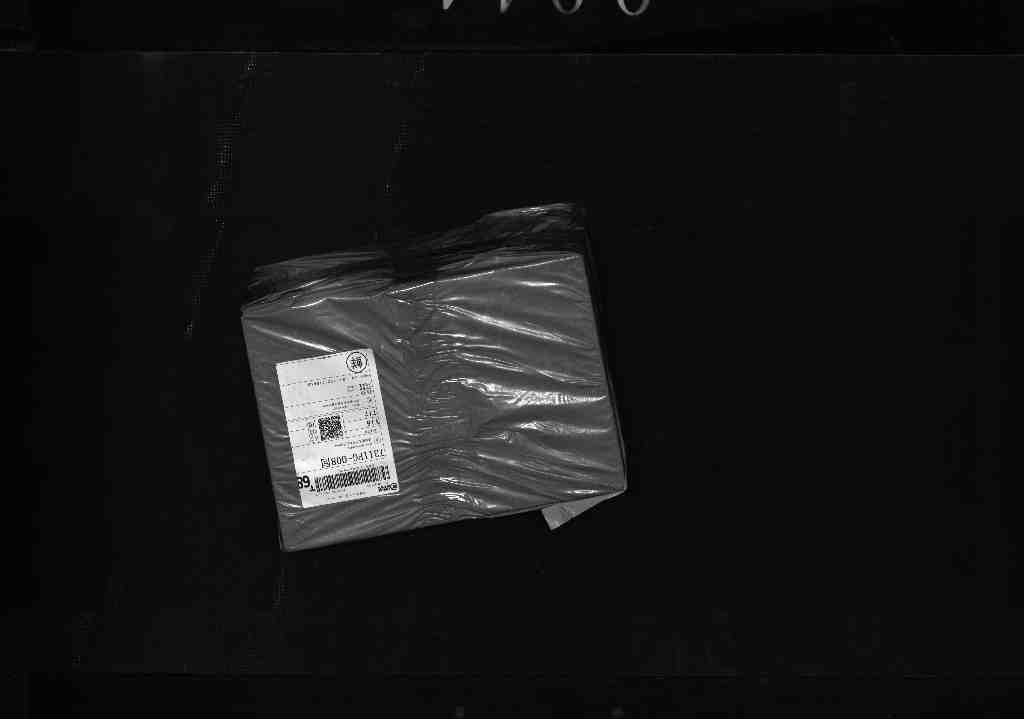box: (230, 208, 636, 544)
